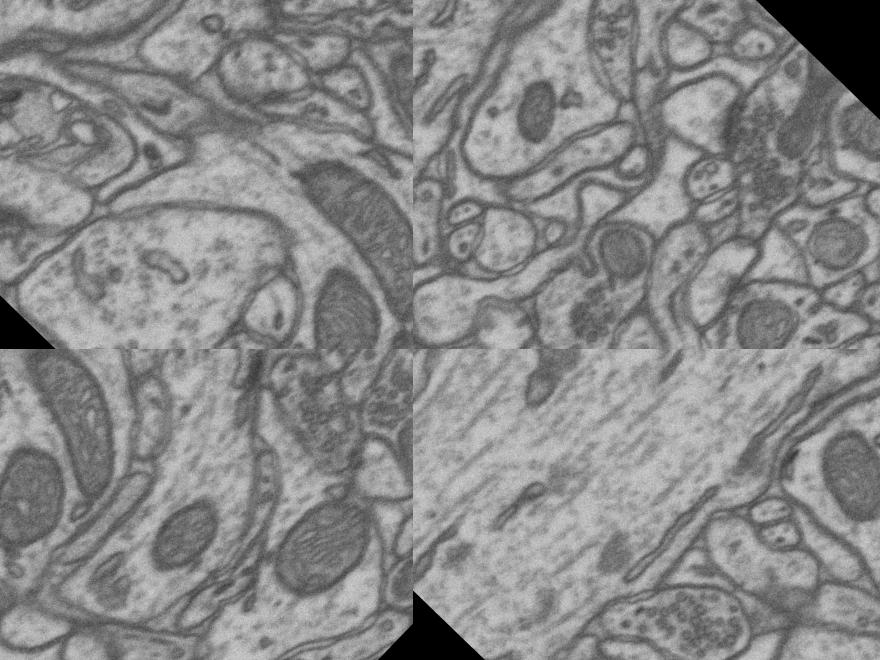mitochondria: (0, 349, 165, 513), (274, 138, 413, 328), (247, 476, 394, 623), (724, 38, 866, 180), (0, 422, 96, 567), (271, 252, 411, 349), (781, 398, 880, 532), (131, 477, 241, 588), (780, 185, 880, 295), (486, 59, 589, 160), (574, 203, 673, 303), (706, 265, 822, 349), (820, 92, 880, 217), (360, 31, 413, 143), (380, 409, 413, 494)
